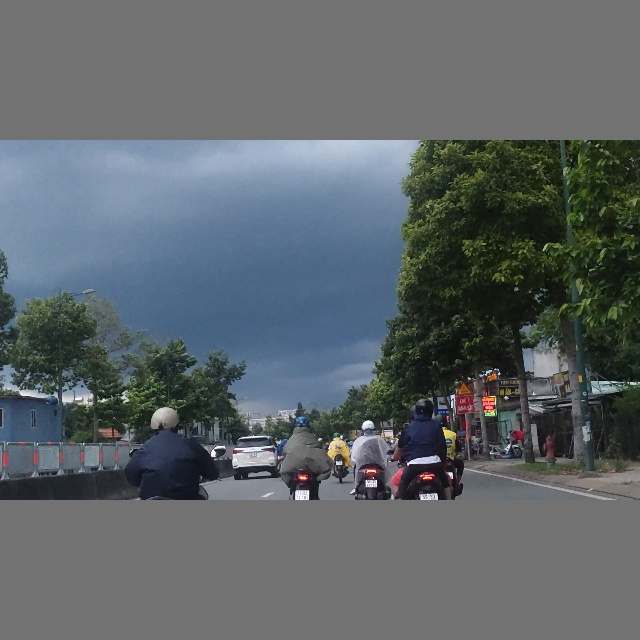I.434a: (437, 396, 452, 416)
W.245a: (456, 382, 472, 395)
